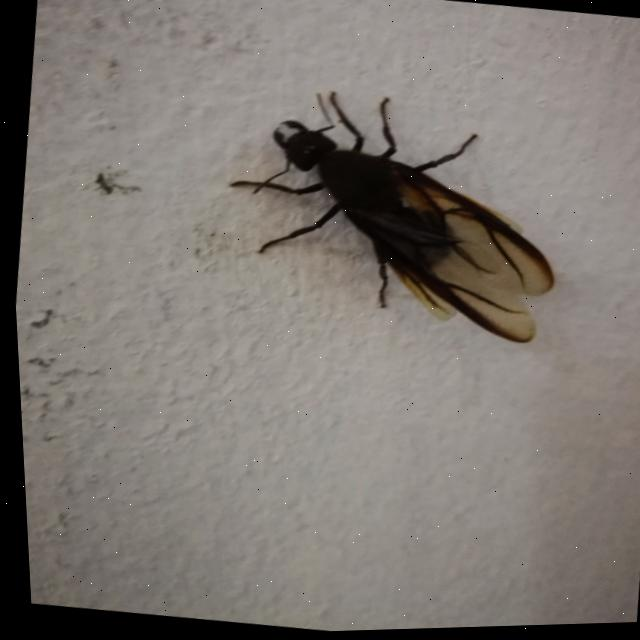Alive-Female-Alate: (206, 74, 576, 359)
